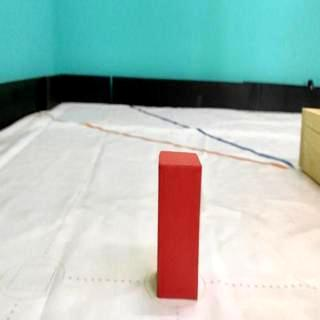redbox: (157, 151, 199, 299)
